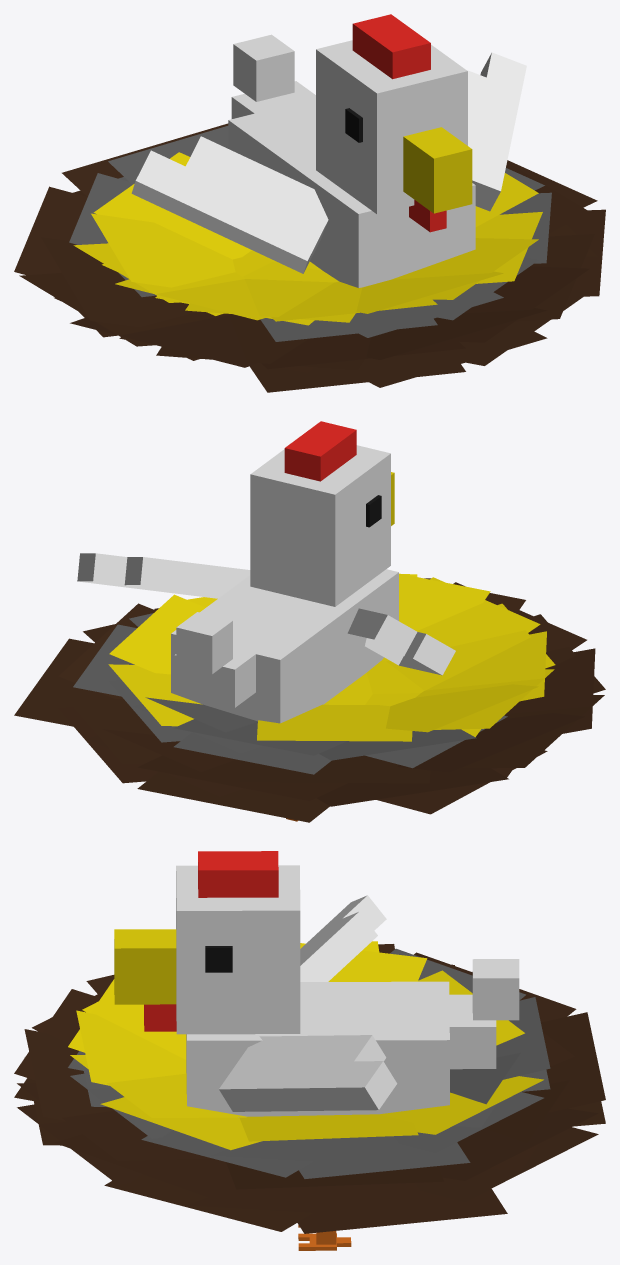
The model's file is Galinha.fbx.
The picture shows the model from 3 angles, top to bottom: view 1: azimuth 30°, elevation 25°; view 2: azimuth 150°, elevation 25°; view 3: azimuth 270°, elevation 25°; orthographic projection. The views are drawn at different scales.
Visible parts, largest first — view 1: Cube.075; view 2: Cube.075; view 3: Cube.075.
Boxes of the visible parts, box(x1,y1,x2,y2) form: Cube.075: box(14, 14, 605, 392); Cube.075: box(14, 421, 605, 822); Cube.075: box(14, 851, 605, 1250).
Bounding box in the file's own units: 96.87 × 61.84 × 89.23.
